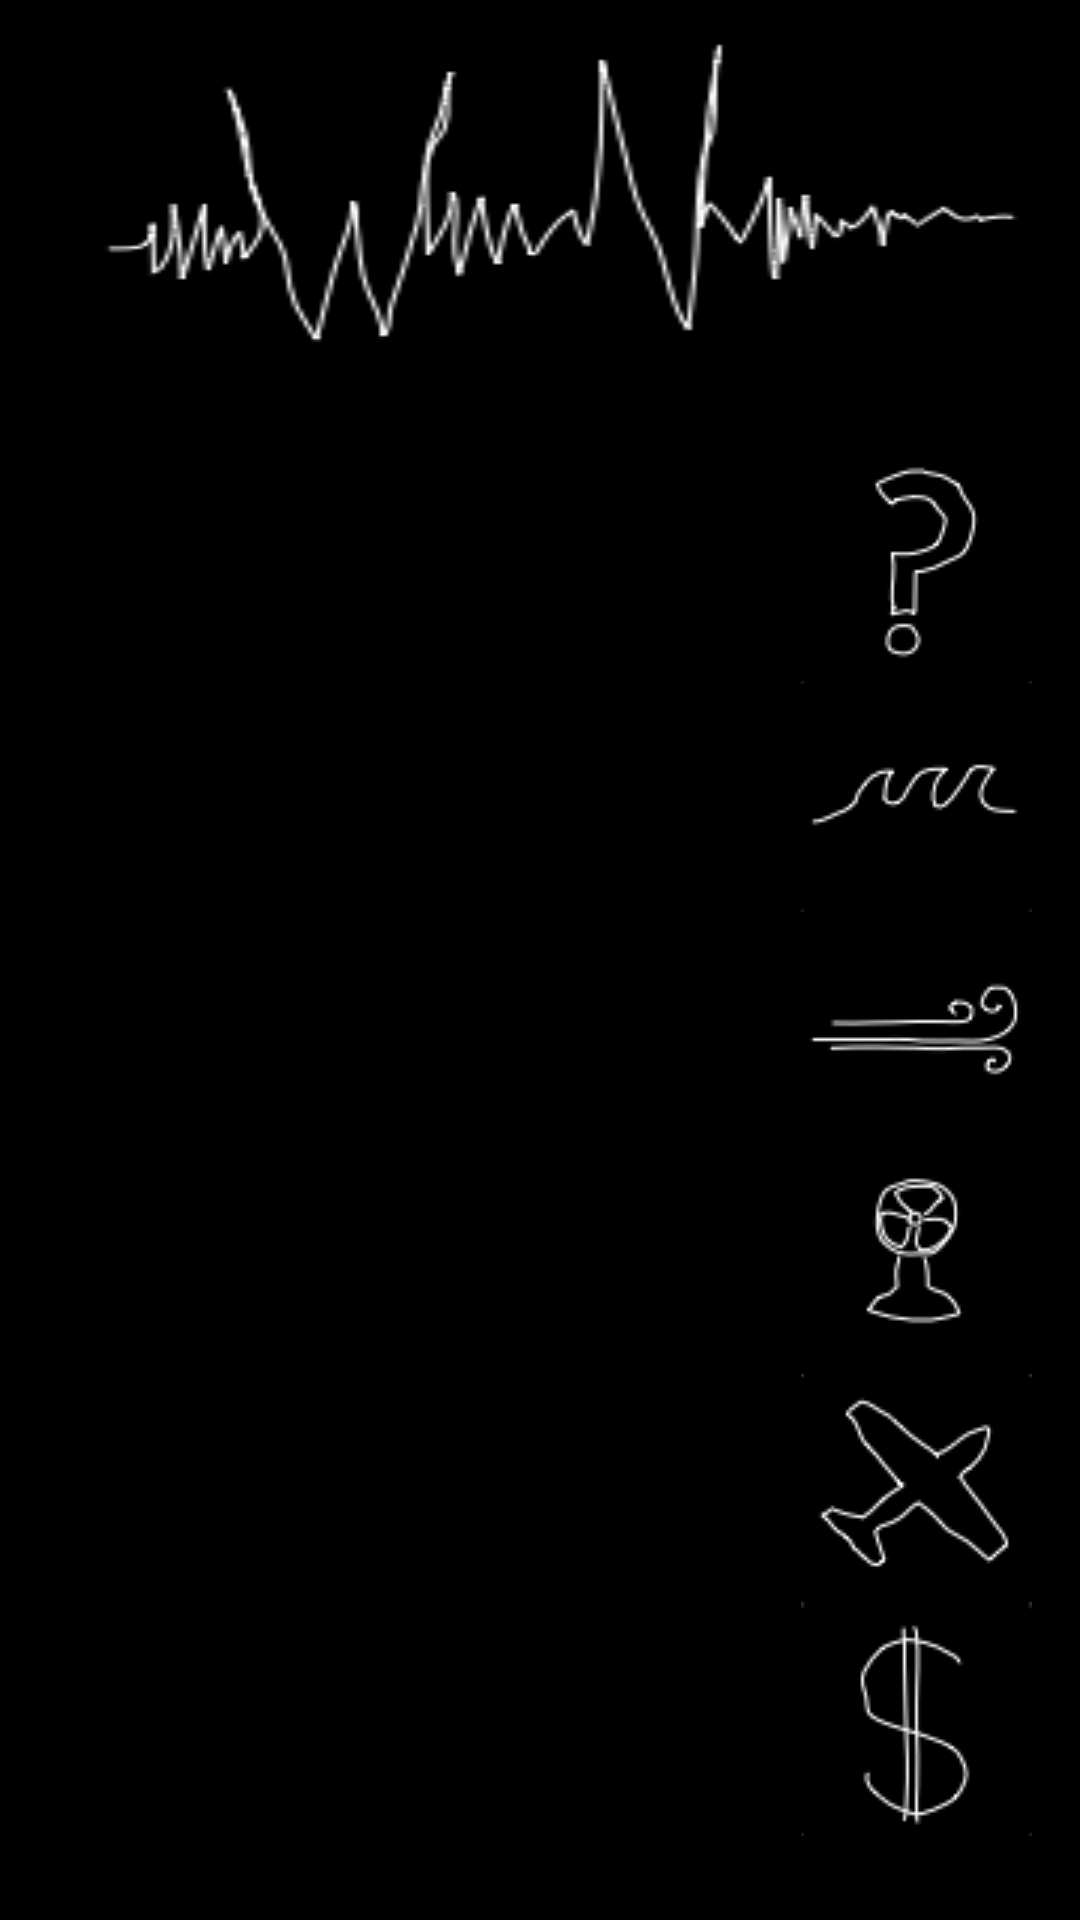

Icon bounding boxes for this 1080w x 1920h phone screenshot, format (x1, y1, x2, y2):
airiconsml: (801, 1374, 1032, 1605)
buysml: (801, 1605, 1032, 1836)
faniconsml: (866, 1178, 962, 1324)
infosml: (875, 467, 978, 658)
seaiconsml: (801, 681, 1032, 912)
windiconsml: (810, 983, 1018, 1075)
